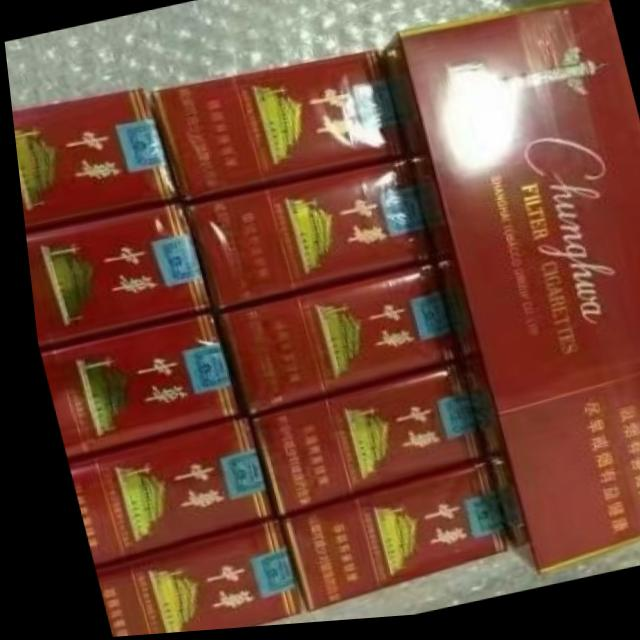box: (379, 1, 640, 581), (148, 55, 399, 203), (179, 163, 425, 313), (208, 269, 449, 419), (242, 371, 473, 520), (269, 466, 492, 617), (32, 315, 235, 463), (58, 421, 265, 566), (20, 203, 204, 351), (10, 89, 178, 233), (82, 522, 287, 638)
